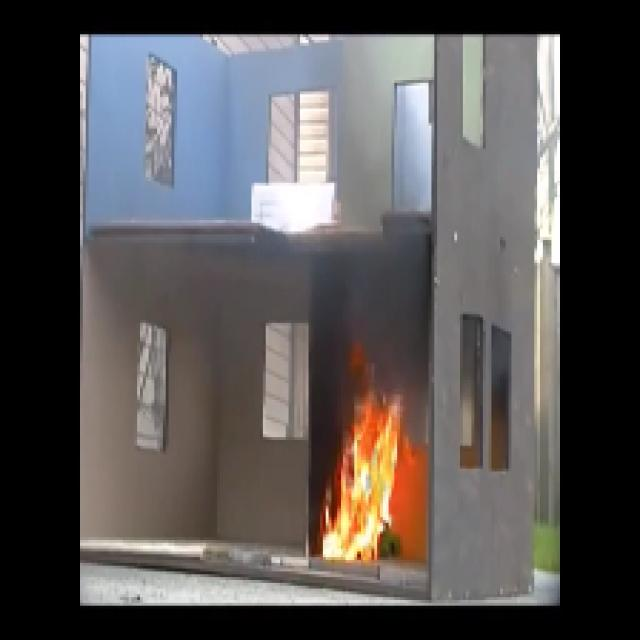fire: (331, 387, 396, 562)
smoke: (324, 247, 429, 340)
